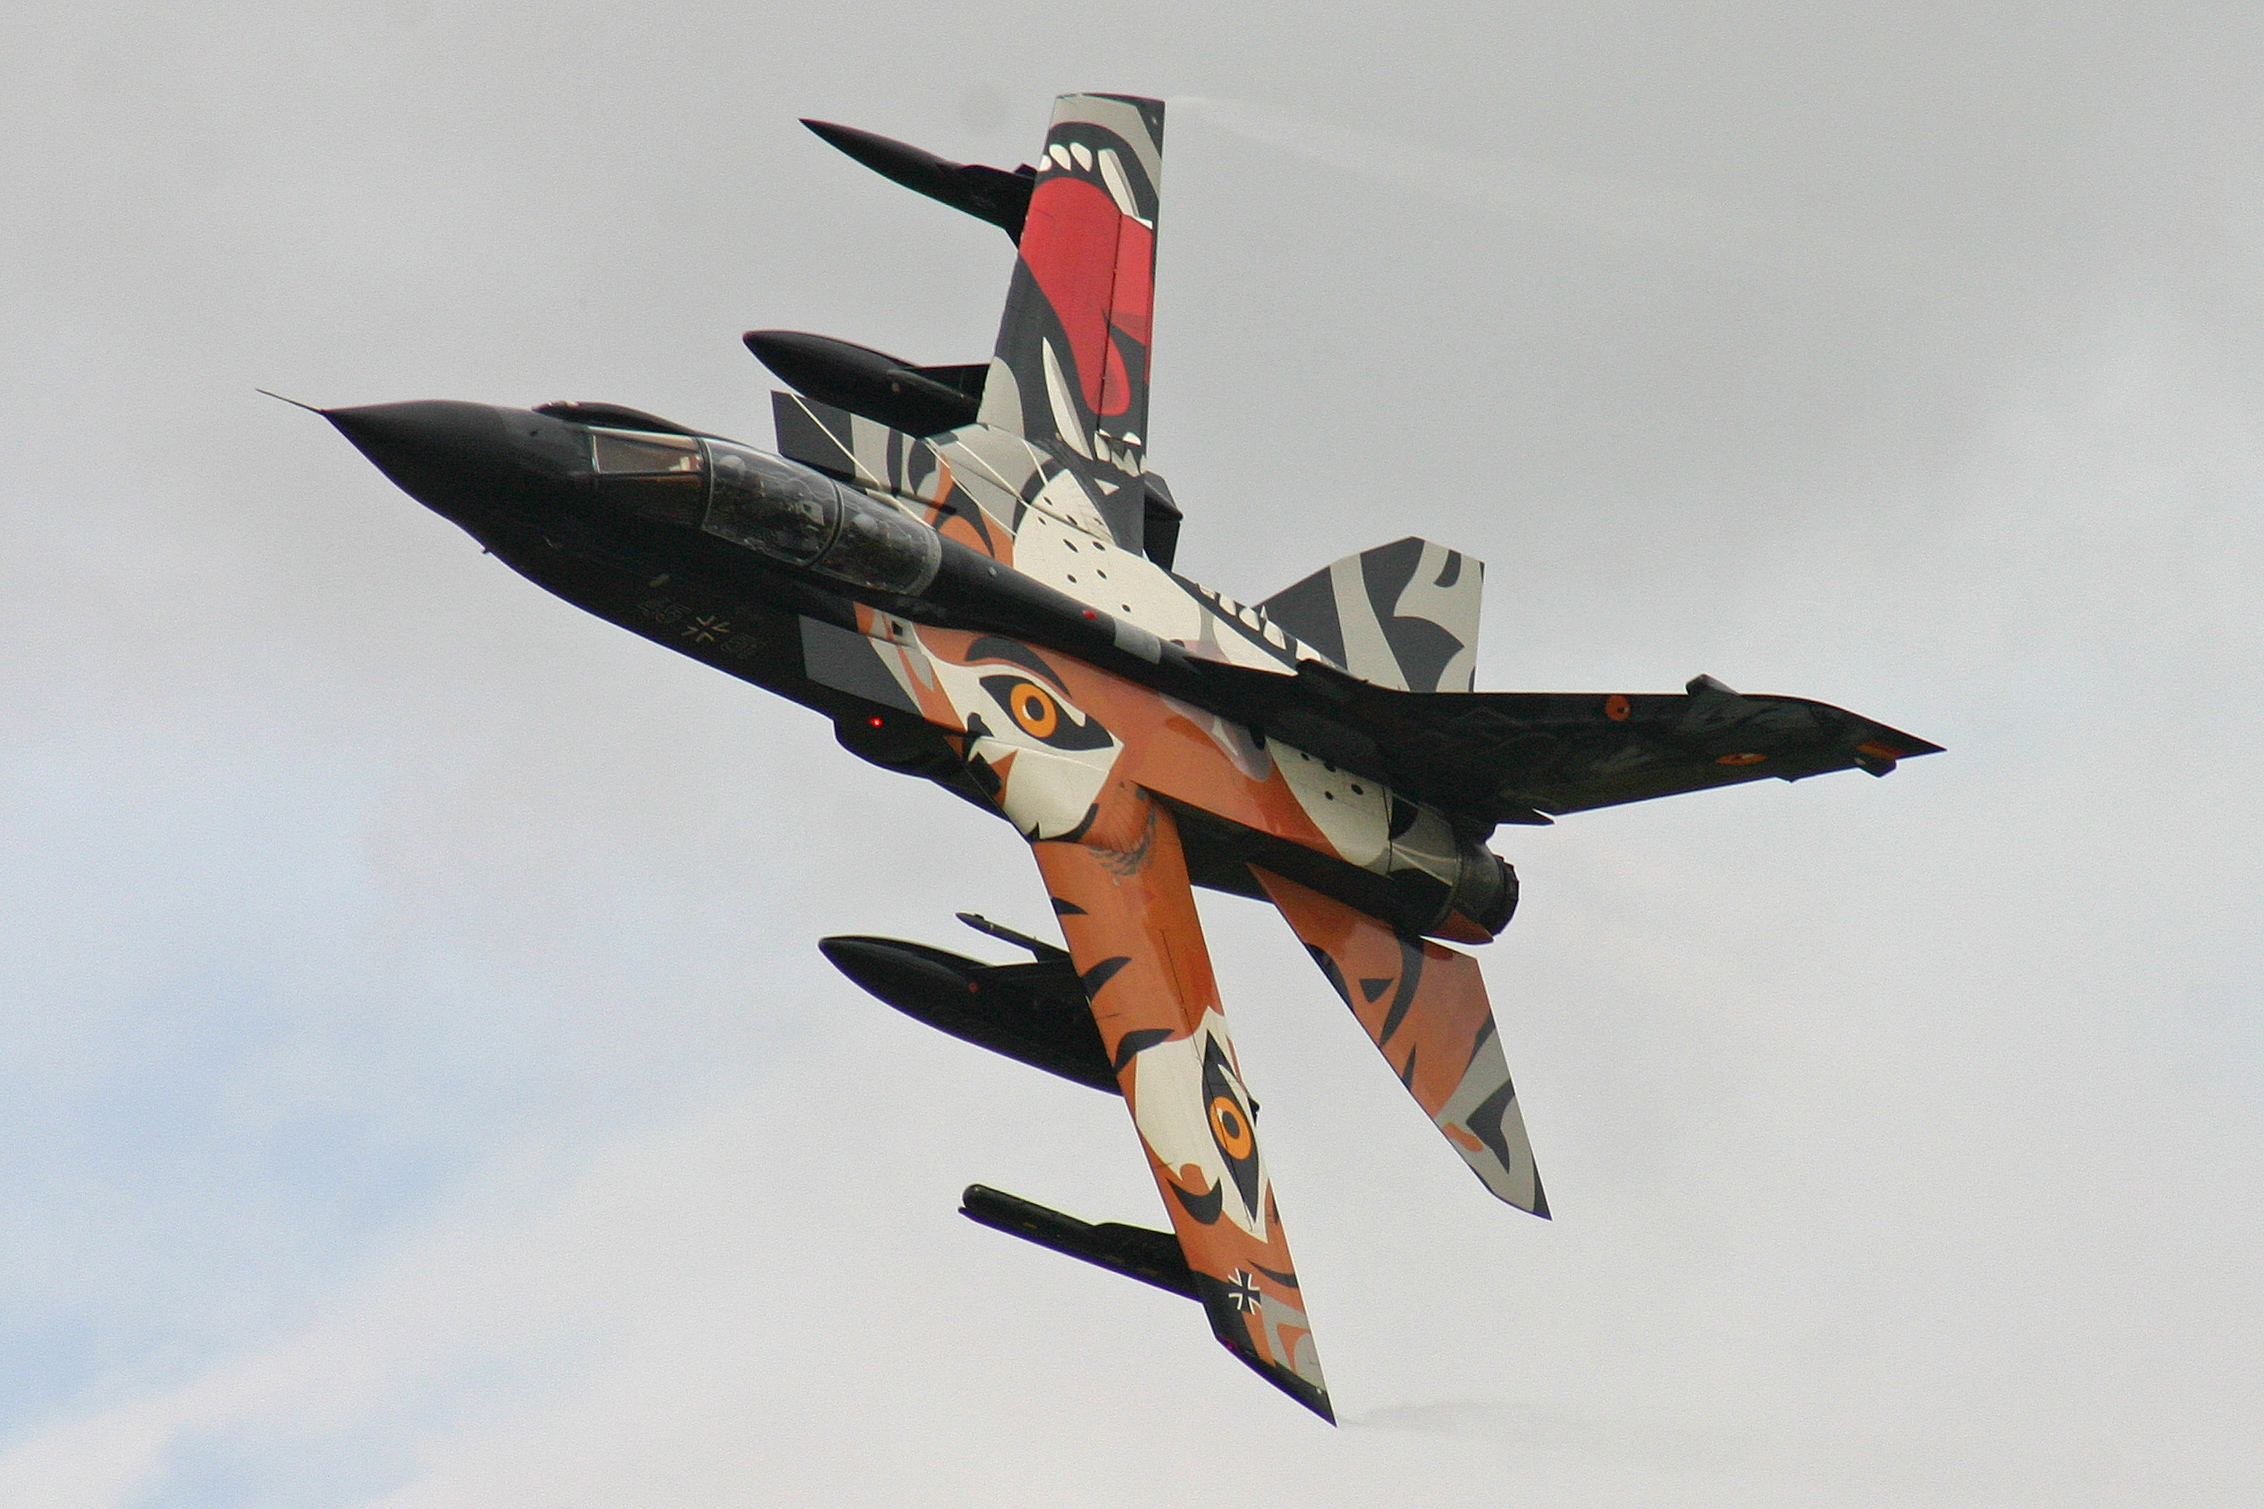Tornado: (252, 91, 1948, 1428)
